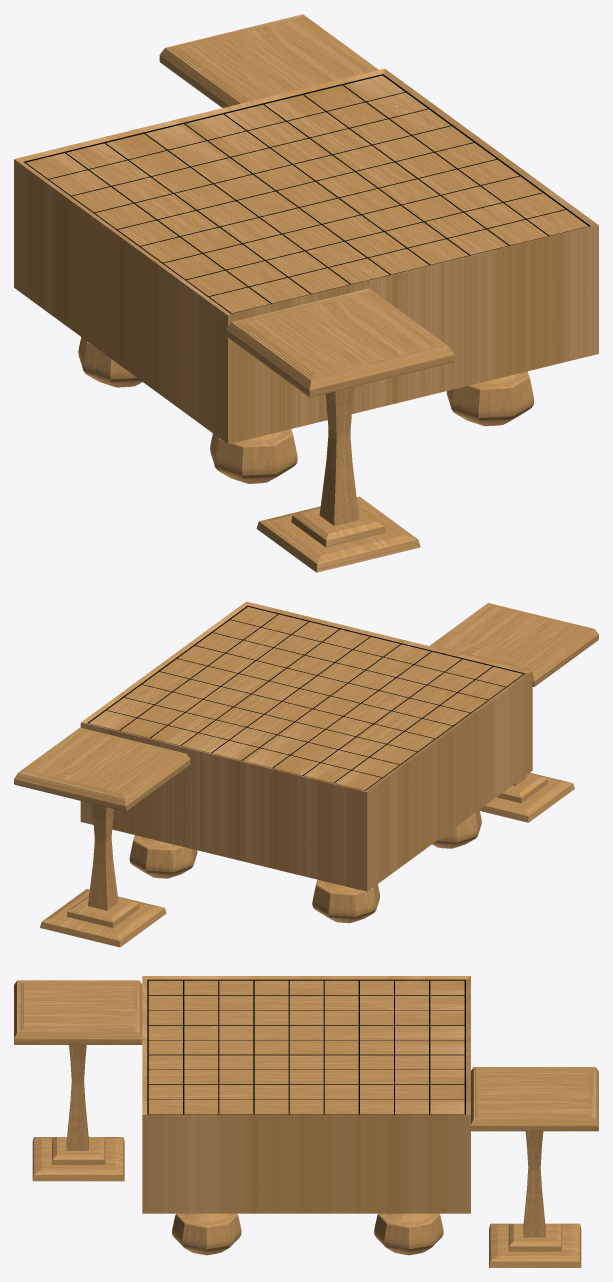
The model's file is Board.fbx.
3 renders of one model, top to bottom at view 1: azimuth 30°, elevation 25°; view 2: azimuth 150°, elevation 25°; view 3: azimuth 270°, elevation 25°, orthographic. The views are drawn at different scales.
Parts seen in each view (by area): view 1: 将棋盤, 立方体.006, 立方体.007, 円柱.003, 円柱.002, 円柱.004; view 2: 将棋盤, 立方体.007, 立方体.006, 円柱.004, 円柱.009, 円柱.003; view 3: 将棋盤, 立方体.006, 立方体.007, 円柱.002, 円柱.009.
Part boxes in pixels (left/top/right/bottom): 将棋盤: left=14, top=68, right=598, bottom=444; 立方体.006: left=226, top=288, right=454, bottom=572; 立方体.007: left=159, top=14, right=378, bottom=107; 円柱.003: left=210, top=429, right=297, bottom=483; 円柱.002: left=446, top=371, right=534, bottom=426; 円柱.004: left=78, top=337, right=142, bottom=387; 将棋盤: left=80, top=601, right=532, bottom=891; 立方体.007: left=14, top=727, right=190, bottom=947; 立方体.006: left=429, top=603, right=598, bottom=822; 円柱.004: left=312, top=880, right=379, bottom=923; 円柱.009: left=129, top=835, right=197, bottom=878; 円柱.003: left=432, top=810, right=481, bottom=848; 将棋盤: left=142, top=976, right=470, bottom=1213; 立方体.006: left=14, top=980, right=142, bottom=1181; 立方体.007: left=470, top=1067, right=598, bottom=1267; 円柱.002: left=172, top=1213, right=241, bottom=1255; 円柱.009: left=374, top=1213, right=443, bottom=1255.
Size of the model in its own units: 4953 by 2629 by 8696.
